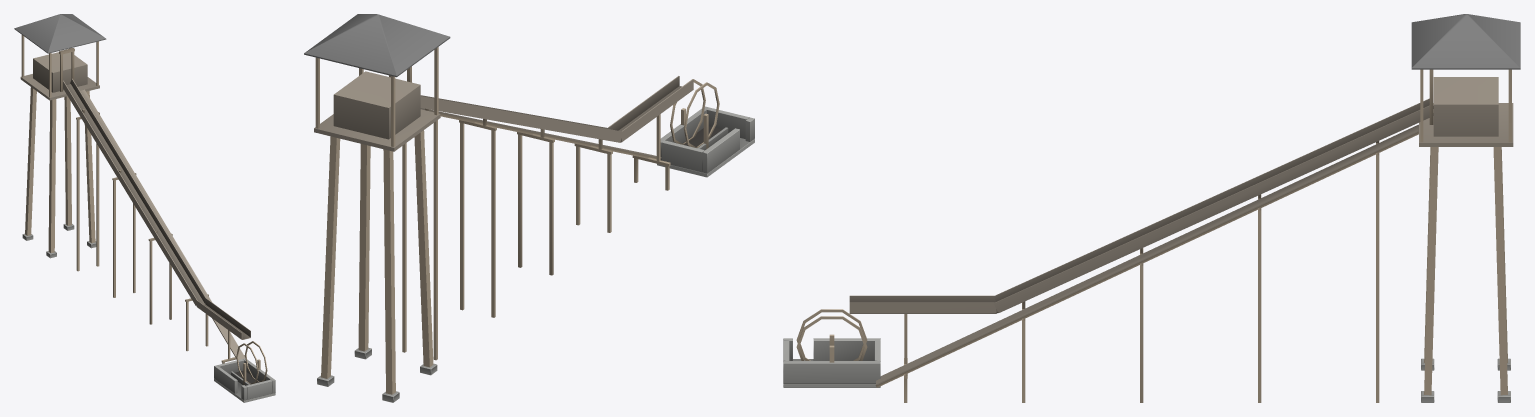
Rendered from mill_race_lod2.glb.
3 renders of one model, left to right at view 1: azimuth 30°, elevation 25°; view 2: azimuth 150°, elevation 25°; view 3: azimuth 270°, elevation 25°, orthographic. The views are drawn at different scales.
Visible parts, largest first — view 1: static; view 2: static; view 3: static.
Boxes of the visible parts, x1,y1,x2,y2 form: static: (14, 14, 275, 402); static: (304, 14, 754, 402); static: (783, 14, 1520, 402).
Size of the model in its own units: 7.4 by 28.4 by 50.
